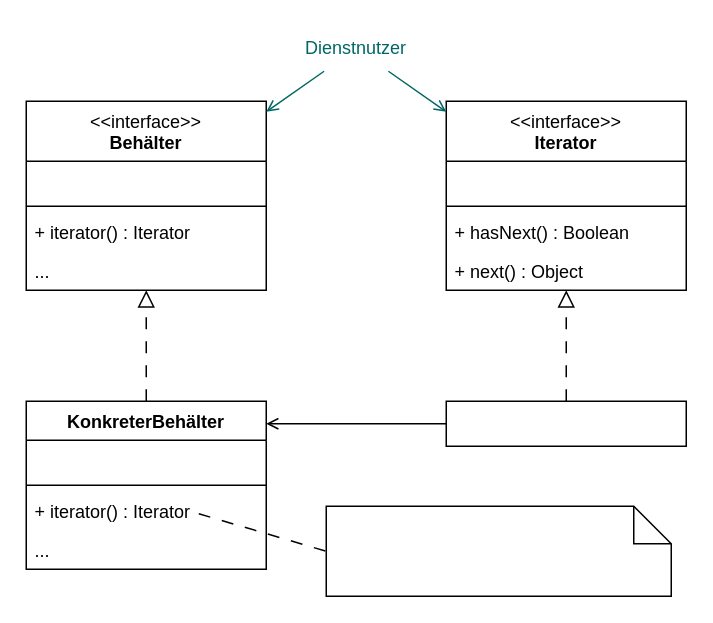
Some shapes in this 713 by 623 pixel diagram are drawn without their labels. Here are the shapes that lost their labels. From the top down, the centre of each, then its label:
At (x=565, y=423): "KonkreterIterator".
At (x=498, y=550): "{ return new KonkreterIterator(this); }".
